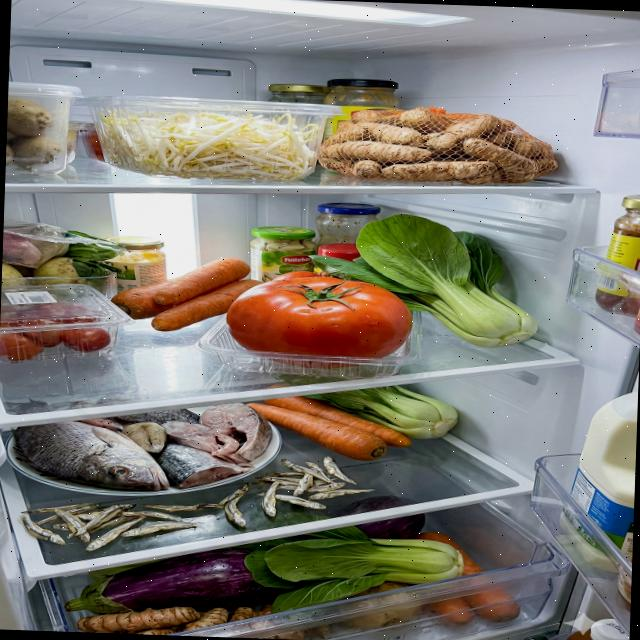anchovies: (16, 444, 376, 562)
bean_sprouts: (95, 103, 318, 183)
carrot: (110, 253, 265, 334), (243, 393, 413, 462), (411, 530, 523, 627)
eggplant: (63, 542, 279, 620)
fish: (8, 394, 272, 496)
pakchoy: (305, 210, 542, 350), (242, 509, 466, 622), (300, 382, 459, 441)
tomato: (224, 268, 414, 371)
turmeric: (317, 104, 560, 188), (75, 602, 273, 638)
